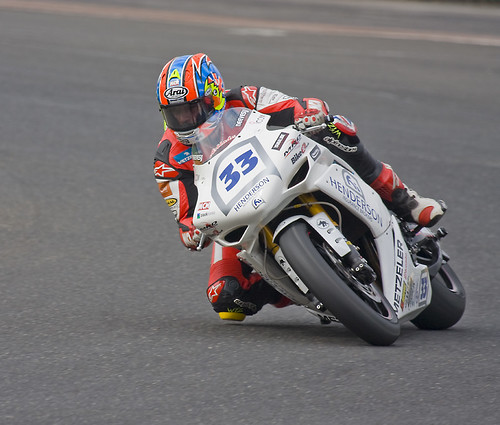helmet: (149, 49, 229, 131)
